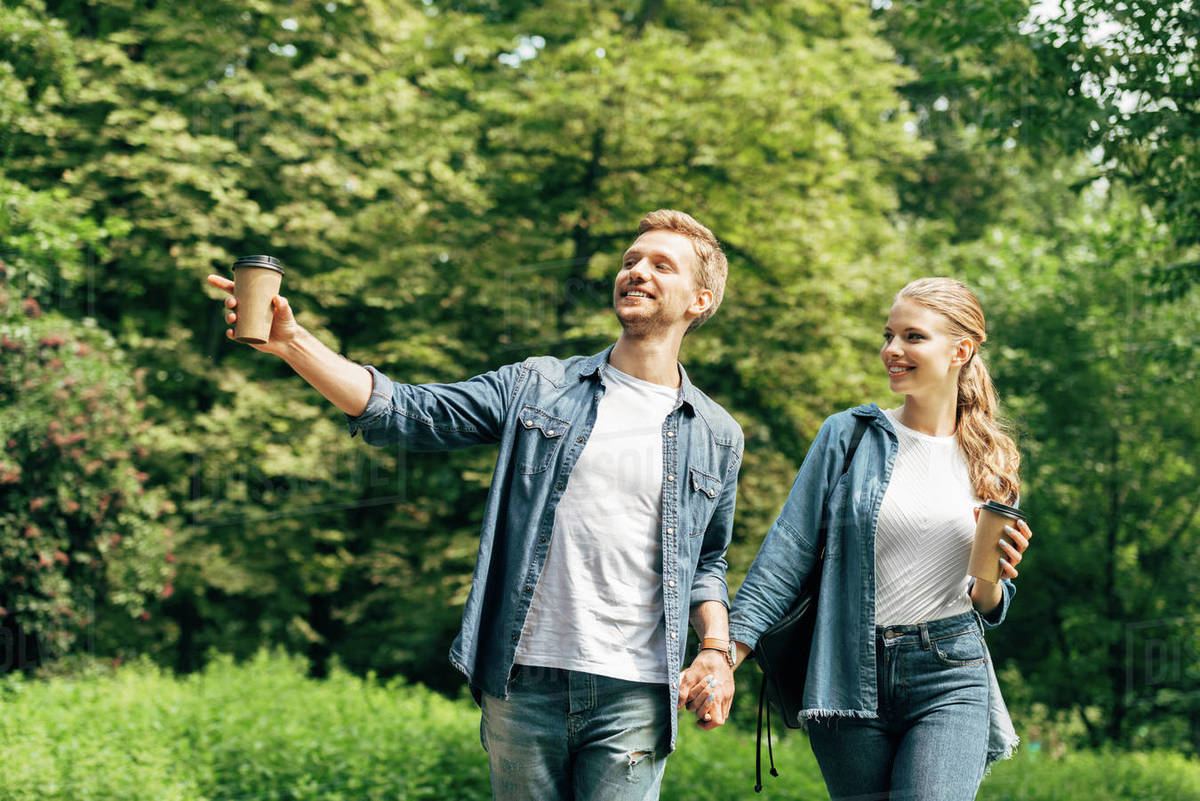Person: (177, 191, 738, 801), (679, 257, 1038, 800)
